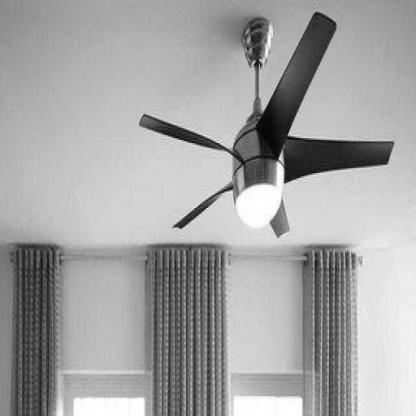ceiling-fan: (135, 10, 395, 239)
